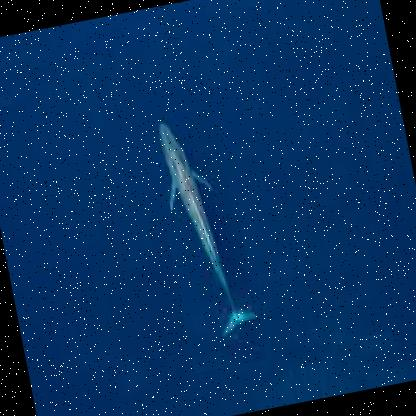blue_whale: (145, 102, 268, 374)
